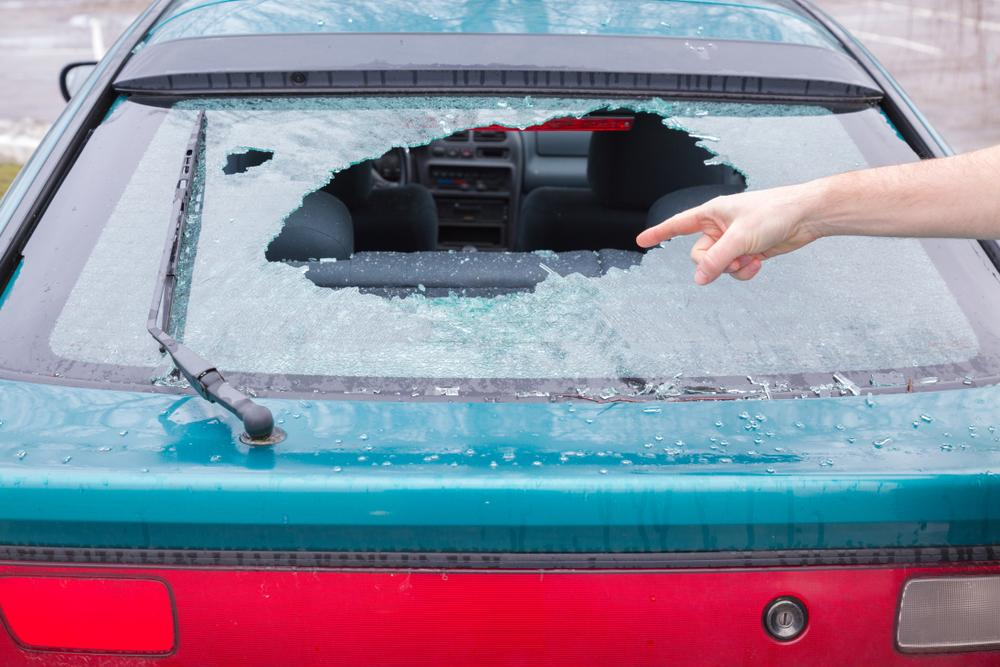glass shatter: (0, 93, 1000, 402)
